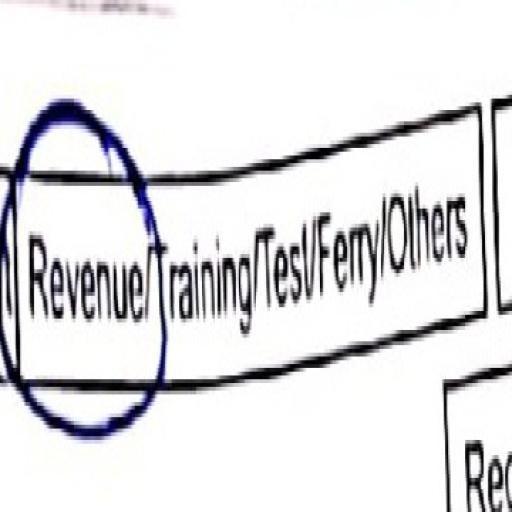check: (2, 63, 160, 498)
